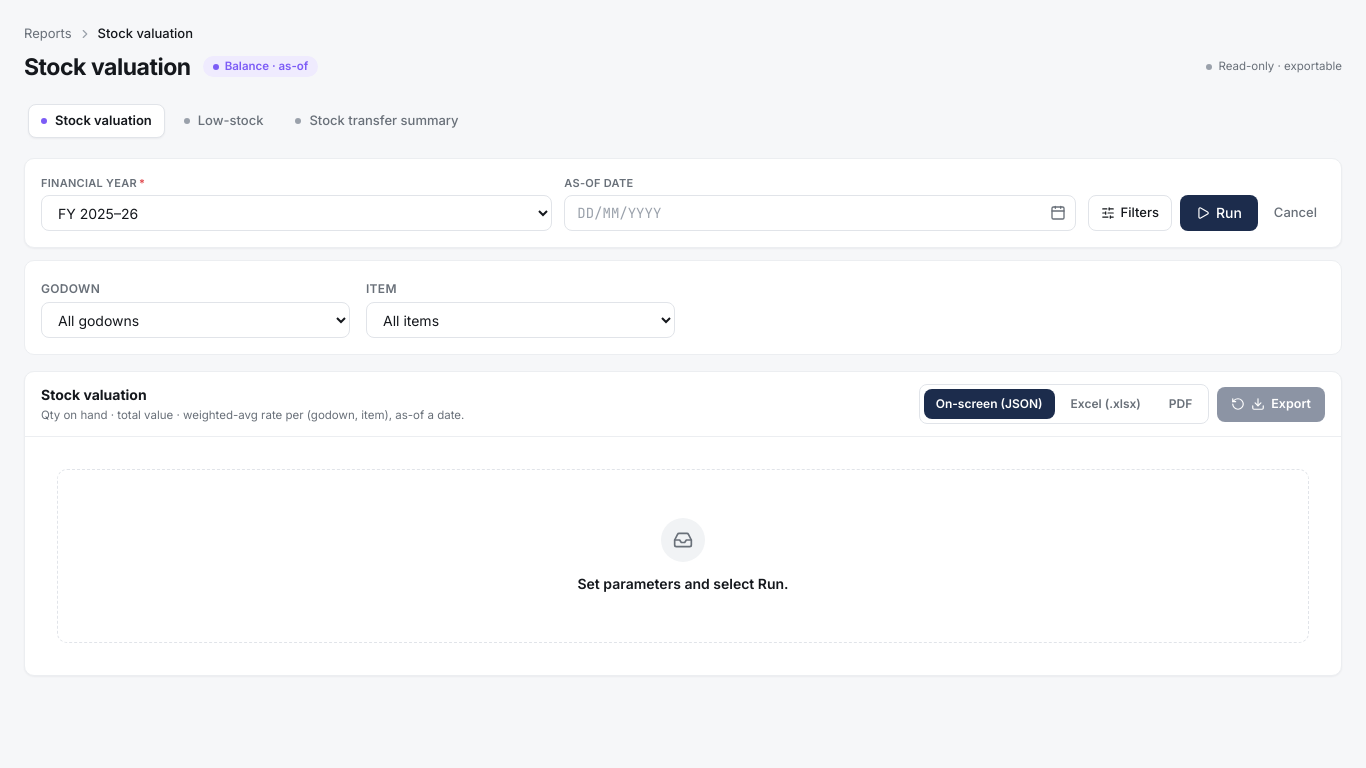
Test case: Low-stock — re-order parameter + breached count (FR-RPT-022) › exposes the re-order-level parameter field, and renders the breached-row count + tone-labelled 'below re-order' status
Click the tab with test id "iv-tab-LOW_STOCK": (224, 121) [171, 104, 276, 138]
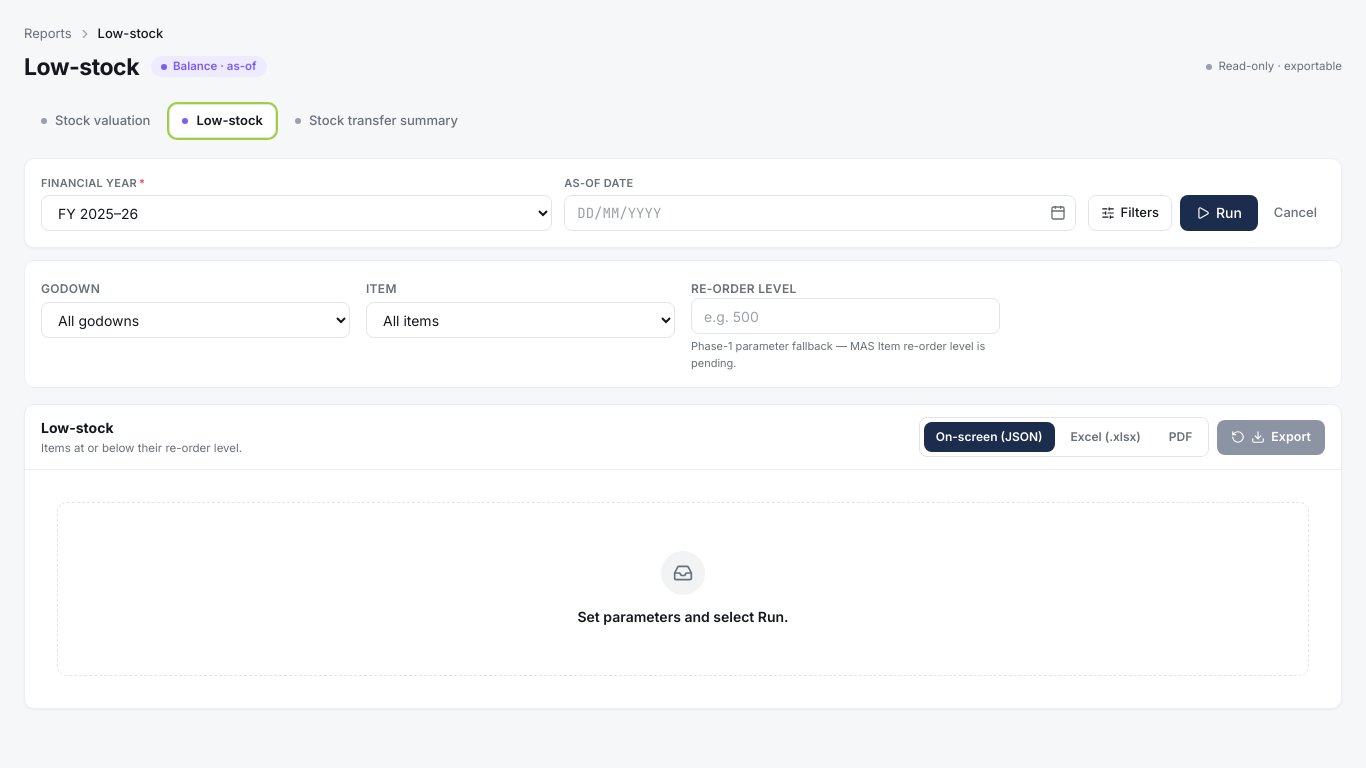
In the field with test id "iv-filter-reorder": (846, 316) [691, 298, 1000, 334], type "500"
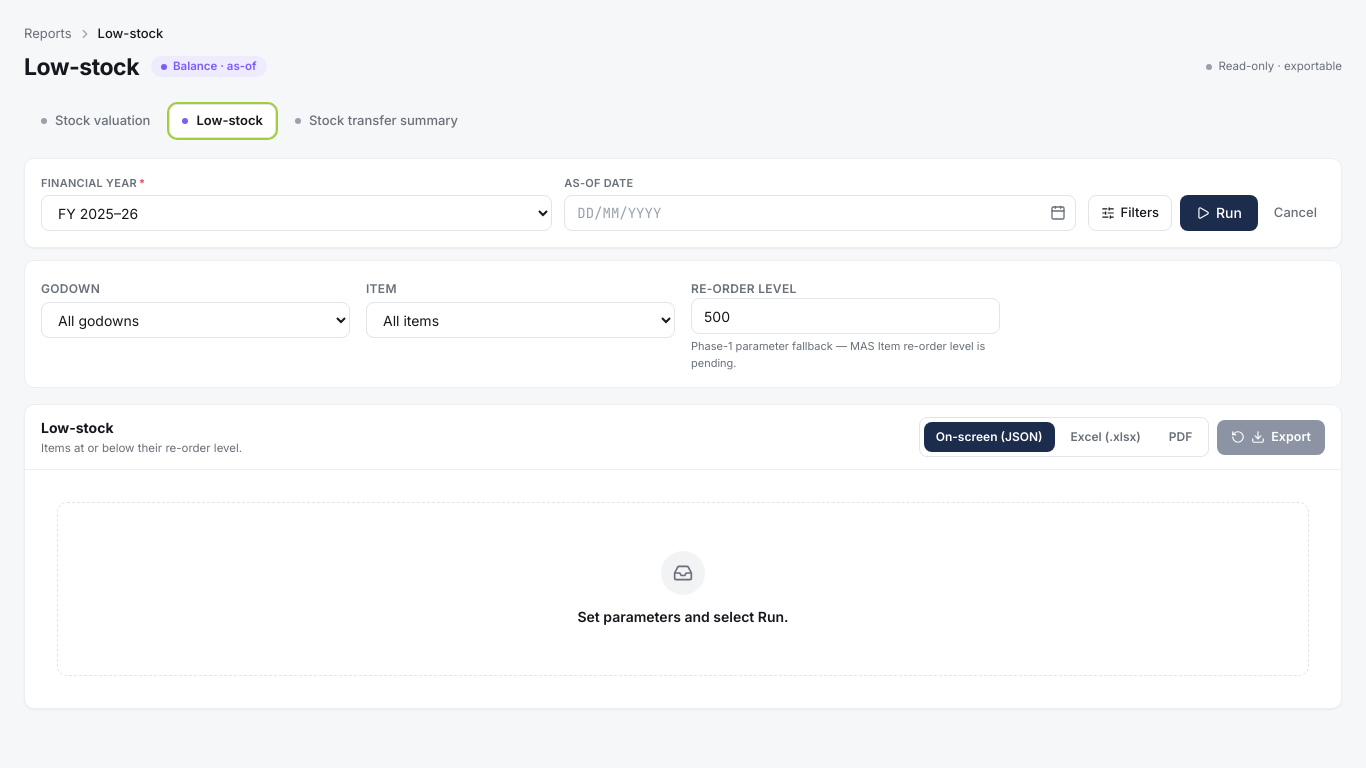
In the field labelled "As-of date": (820, 213) [564, 195, 1076, 231], type "30/06/2026"
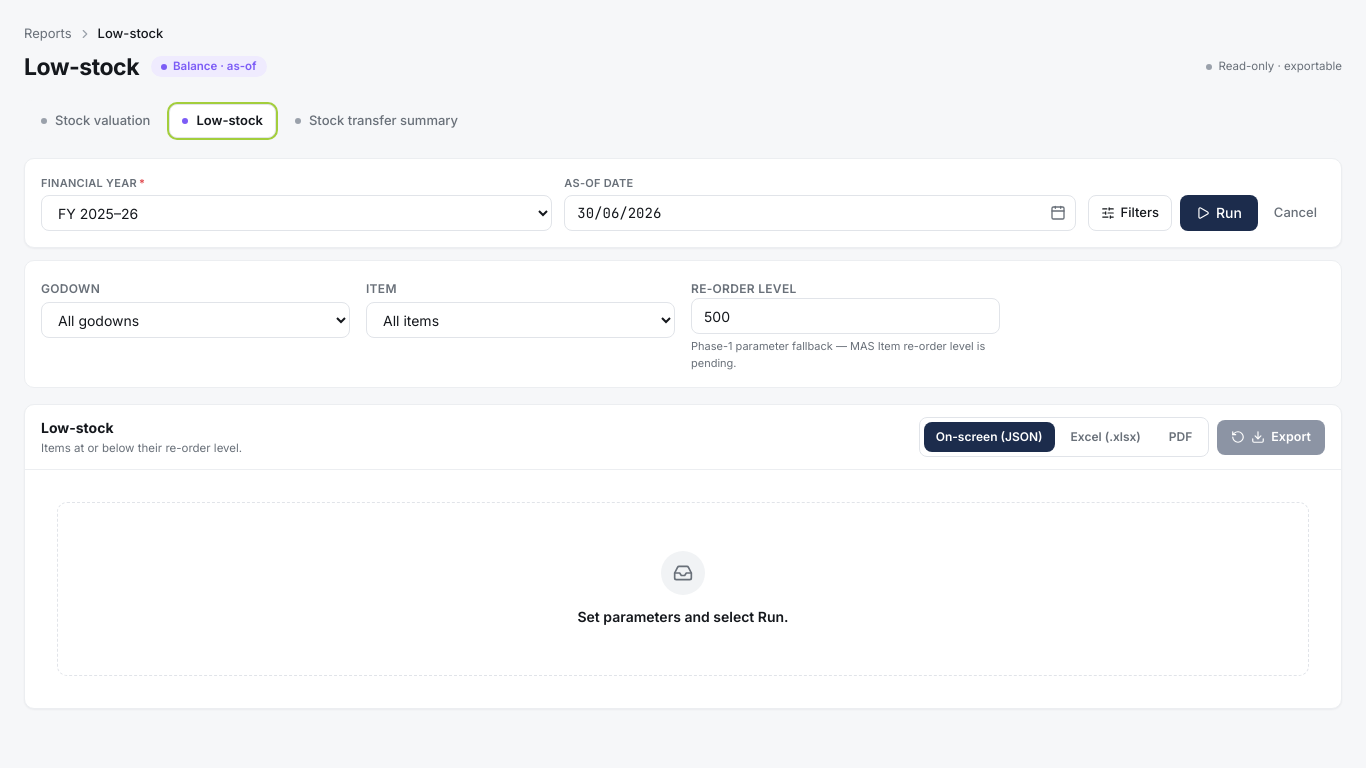
Click the button with test id "report-run": (1219, 213) [1180, 195, 1258, 231]
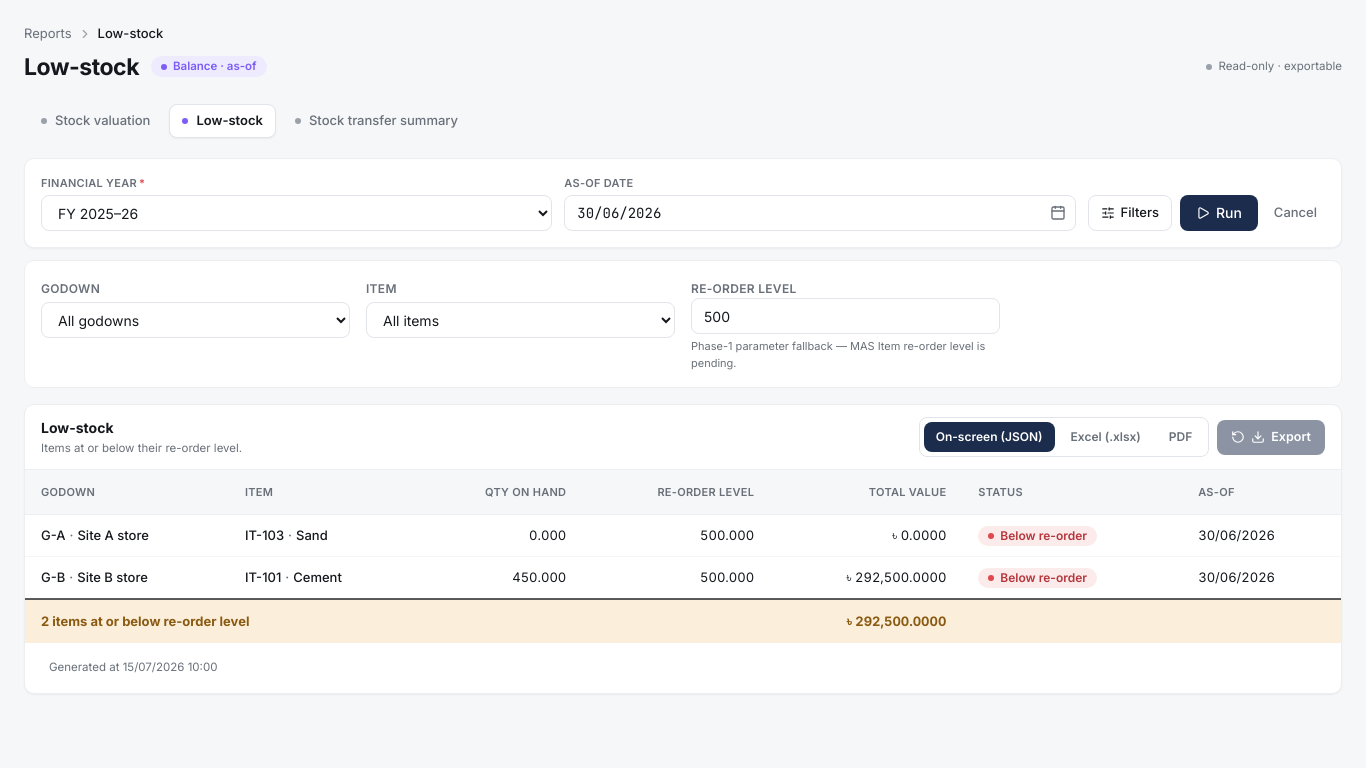
Now the element with test id "iv-ls-table" is shown, box [25, 470, 1341, 693]
Now the row with test id "iv-ls-totals-footer" shows "2 items at or below re-order", box [25, 599, 1341, 643]
Now the element with test id "iv-ls-below-badge" reads "Below re-order", box [1000, 528, 1087, 543]
